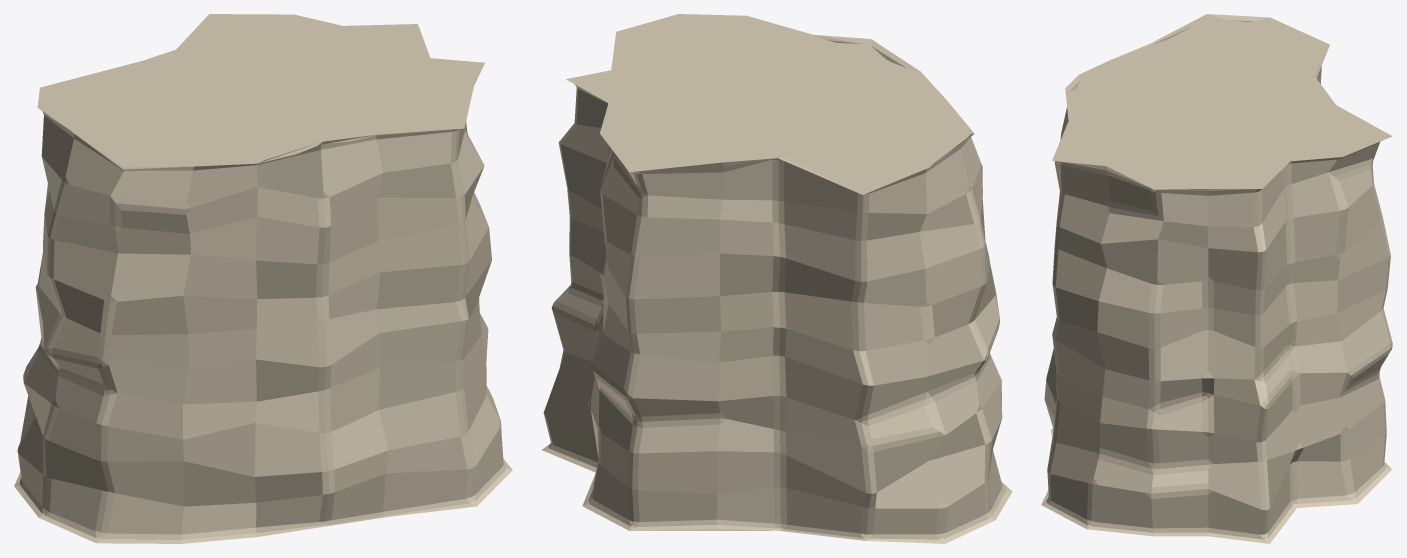
File: limestone_cliff.glb
3 renders of one model, left to right at view 1: azimuth 30°, elevation 25°; view 2: azimuth 150°, elevation 25°; view 3: azimuth 270°, elevation 25°, orthographic. The views are drawn at different scales.
Parts seen in each view (by area): view 1: Stratified limestone; view 2: Stratified limestone; view 3: Stratified limestone.
Part boxes in pixels (left/top/right/bottom): Stratified limestone: left=14, top=14, right=512, bottom=543; Stratified limestone: left=542, top=14, right=1012, bottom=543; Stratified limestone: left=1041, top=14, right=1392, bottom=543.
Bounding box in the file's own units: 2.02 × 1.76 × 1.58.
